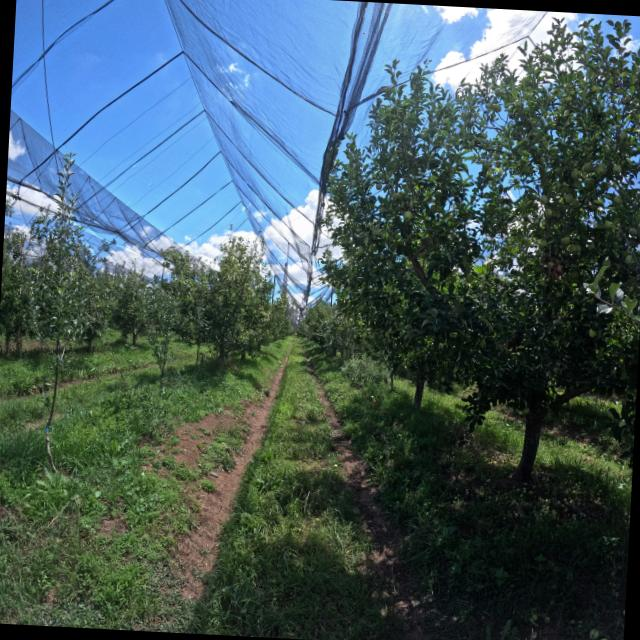-FireBlight-: (545, 254, 564, 284)
